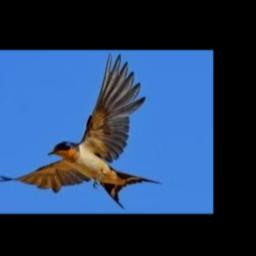Swallow: (0, 53, 164, 210)
